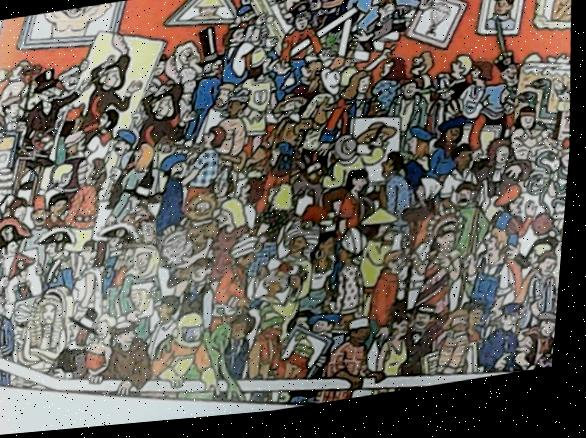waldo: (128, 206, 163, 251)
